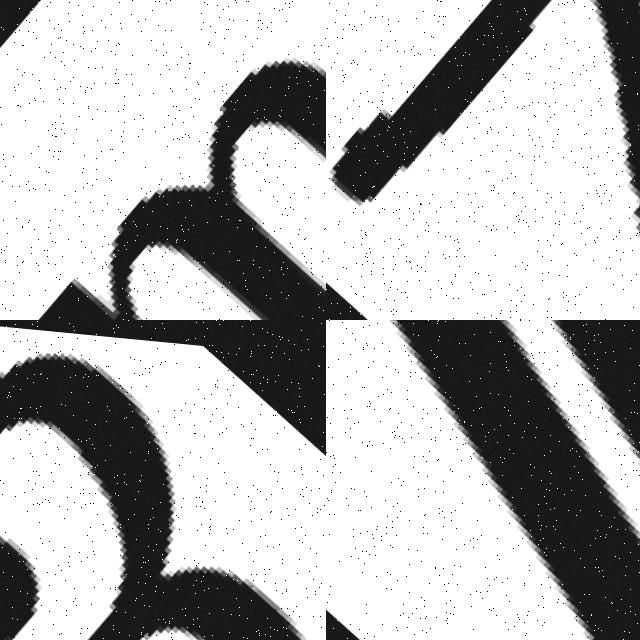3: (0, 320, 326, 640)
H: (393, 320, 640, 640)
M: (0, 0, 326, 320)
Z: (326, 0, 640, 320)
